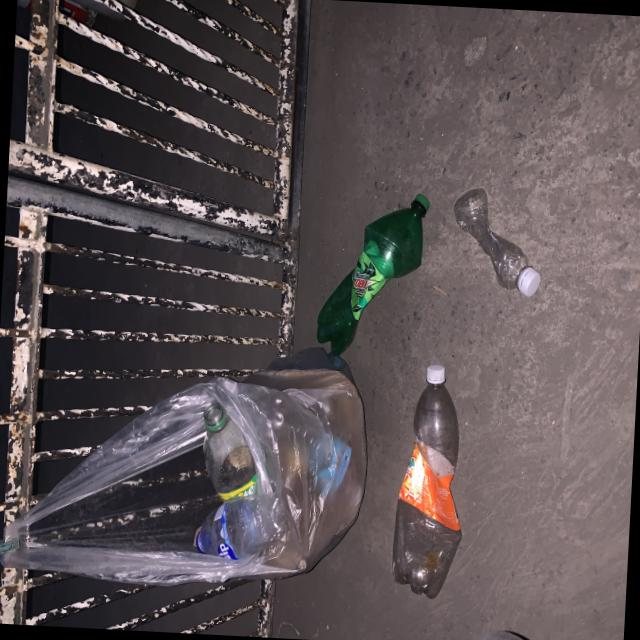Bottle: (316, 194, 428, 356), (392, 365, 461, 598), (453, 189, 539, 296)
